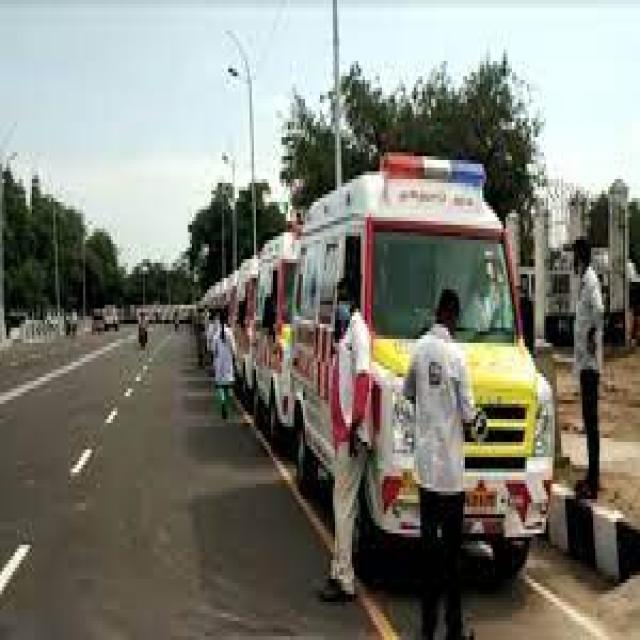ambulance: (290, 152, 553, 552)
